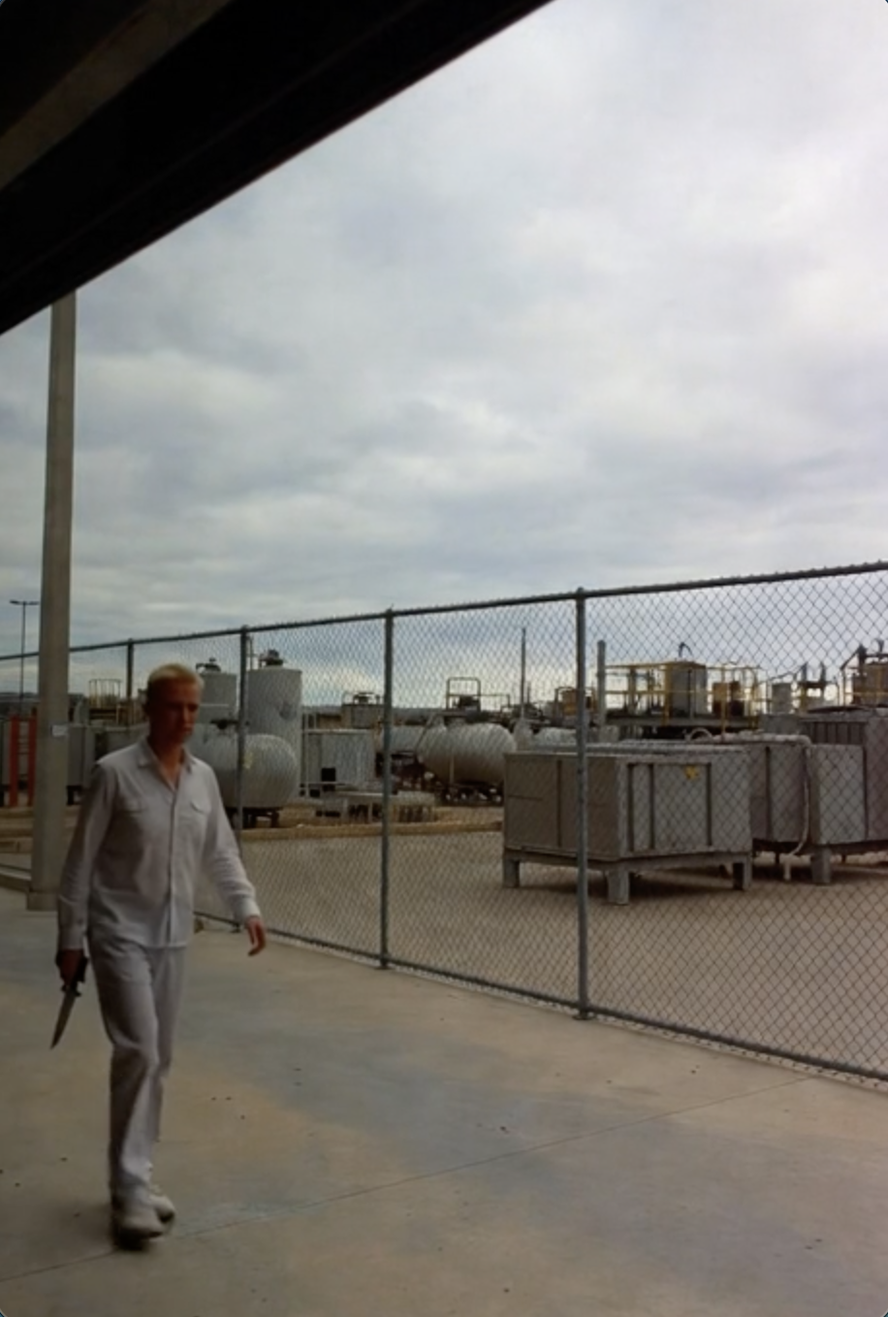Heavy Gun: (43, 662, 265, 1250)
Knife: (41, 952, 94, 1055)
